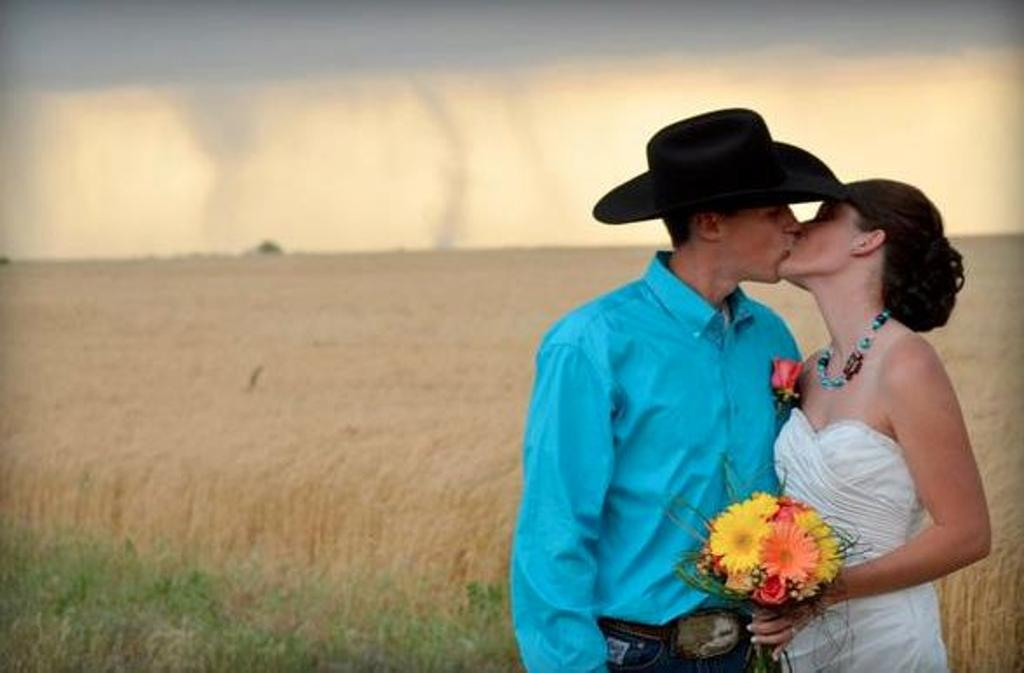face: (732, 168, 800, 284), (782, 188, 868, 278)
